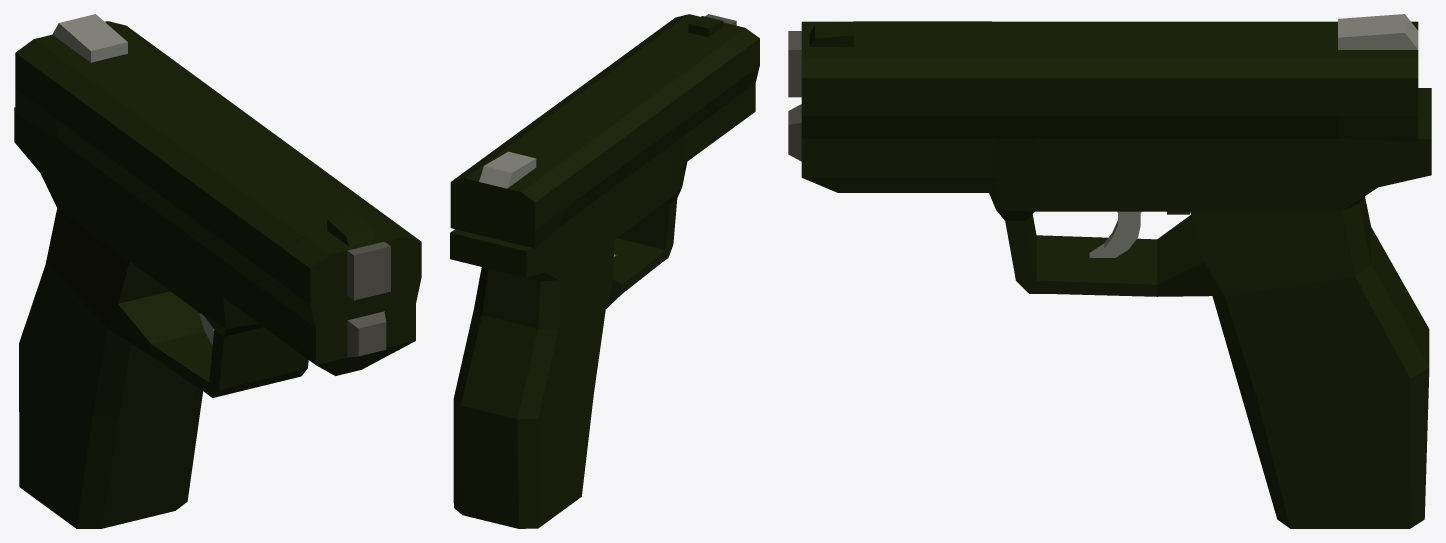
The model's file is 9mm Pistol.fbx.
The picture shows the model from 3 angles, left to right: view 1: azimuth 30°, elevation 25°; view 2: azimuth 150°, elevation 25°; view 3: azimuth 270°, elevation 25°; orthographic projection. The views are drawn at different scales.
Parts seen in each view (by area): view 1: Pistol; view 2: Pistol; view 3: Pistol.
Boxes of the visible parts, x1,y1,x2,y2 form: Pistol: (14,14,421,528); Pistol: (450,14,759,528); Pistol: (788,14,1431,528).
Size of the model in its own units: 100 by 480 by 393.
